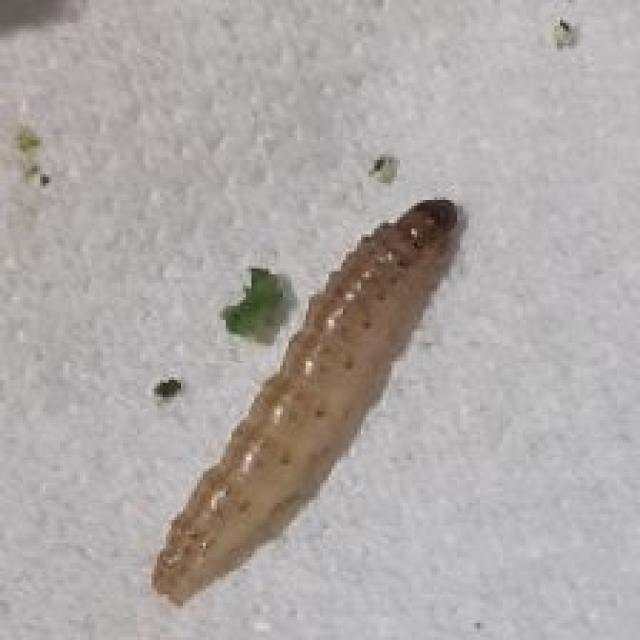white mucus: (104, 184, 506, 612)
